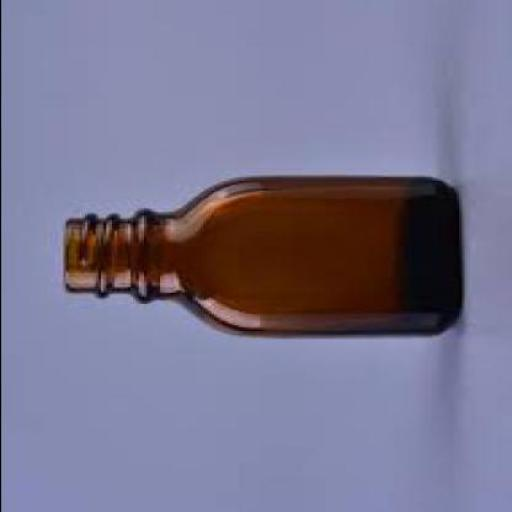glass: (60, 173, 461, 335)
